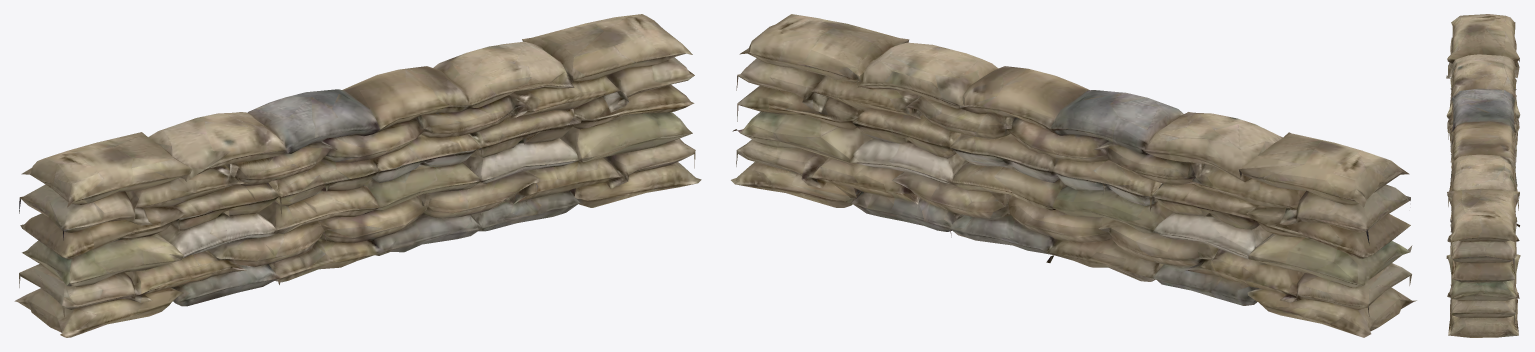
File: sandbags.glb
3 views of the same model, side by side, from view 1: azimuth 30°, elevation 25°; view 2: azimuth 150°, elevation 25°; view 3: azimuth 270°, elevation 25° (orthographic). The views are drawn at different scales.
Parts seen in each view (by area): view 1: Mesh_0; view 2: Mesh_0; view 3: Mesh_0.
Boxes of the visible parts, x1,y1,x2,y2 form: Mesh_0: (14, 14, 701, 337); Mesh_0: (731, 14, 1416, 337); Mesh_0: (1446, 14, 1520, 337).
Bounding box in the file's own units: 1.9 × 0.4599 × 0.2656.
Materials: 1 (1 with a texture image).
